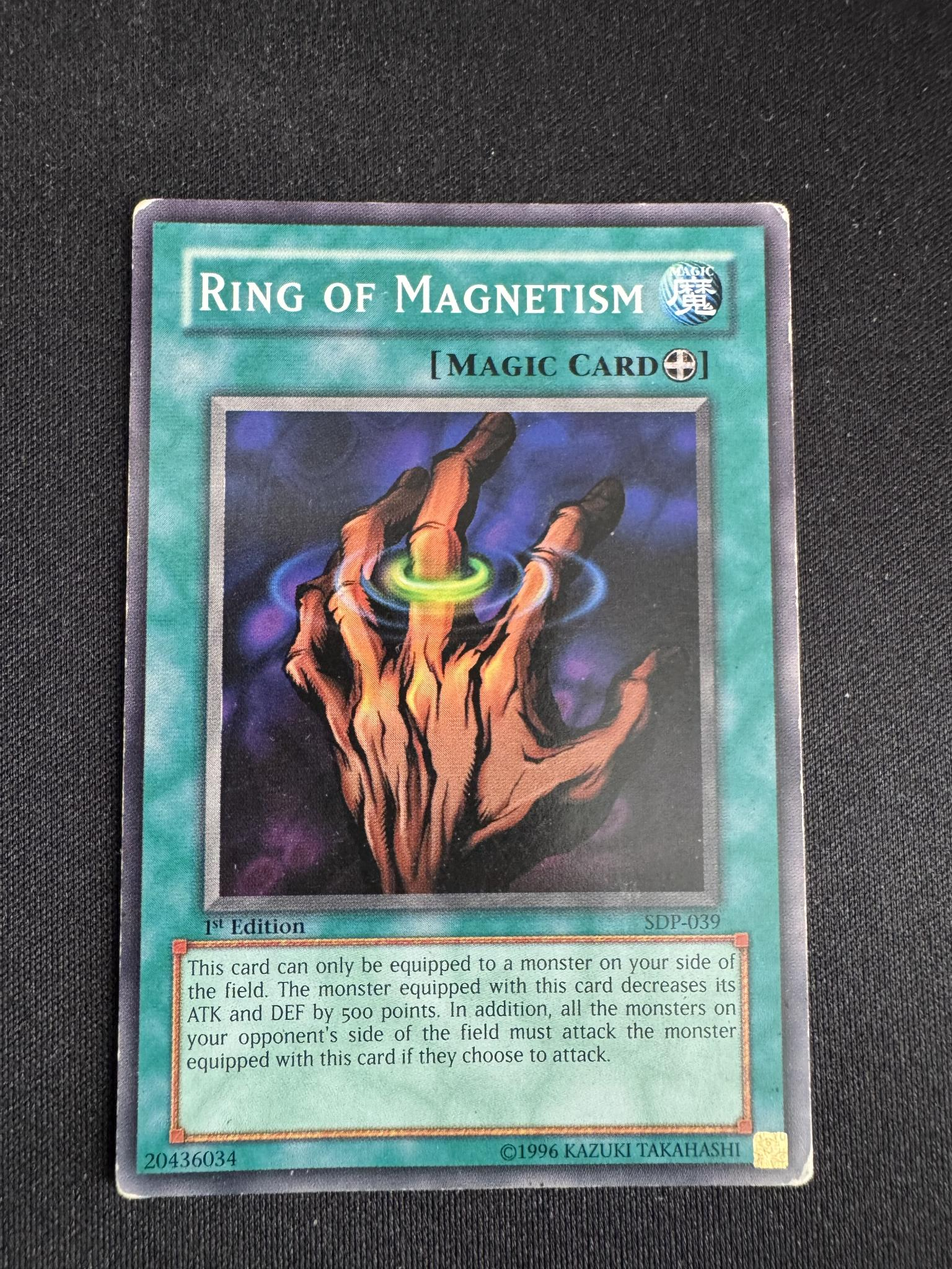card-2UtV: (115, 198, 813, 1199)
